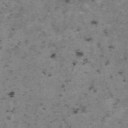oxide scale of temperature system: (72, 19, 126, 82), (72, 104, 86, 114), (58, 84, 66, 96), (88, 84, 98, 93), (42, 71, 52, 78), (8, 90, 16, 98), (50, 53, 56, 58), (115, 98, 120, 102), (64, 0, 70, 3)
